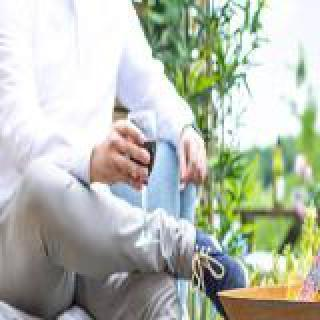fire: (282, 208, 320, 320)
